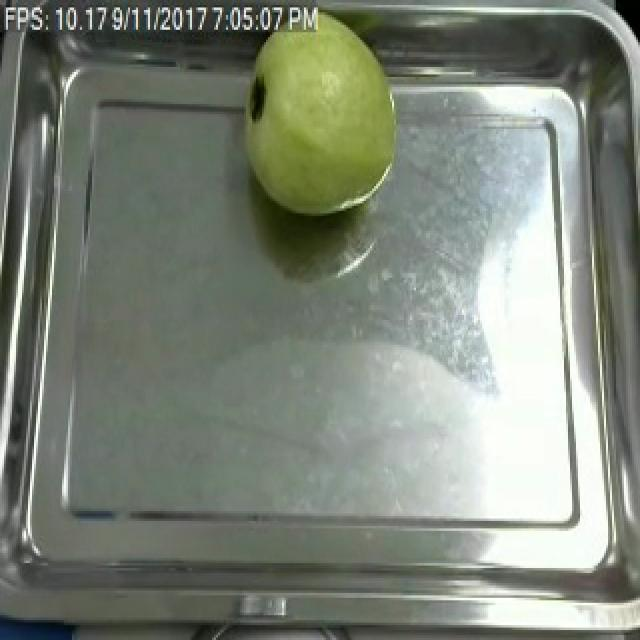Fruit: (236, 5, 408, 226)
